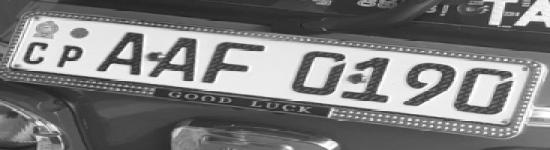0: (457, 65, 515, 116), (290, 48, 349, 96)
1: (340, 56, 393, 104)
9: (398, 61, 456, 109)
A: (148, 34, 199, 83), (96, 29, 146, 76)
C: (22, 41, 50, 64)
F: (200, 41, 270, 85)
P: (55, 44, 84, 68)
